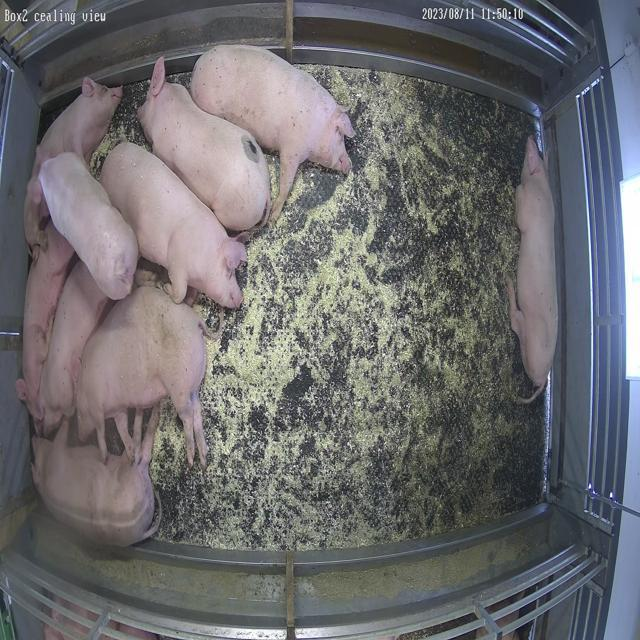Pig: (191, 45, 354, 220), (100, 143, 246, 308), (137, 57, 271, 232), (76, 288, 207, 466), (32, 406, 159, 548), (24, 77, 121, 248), (38, 152, 138, 300), (509, 135, 559, 404), (15, 222, 75, 432), (39, 261, 109, 436)
